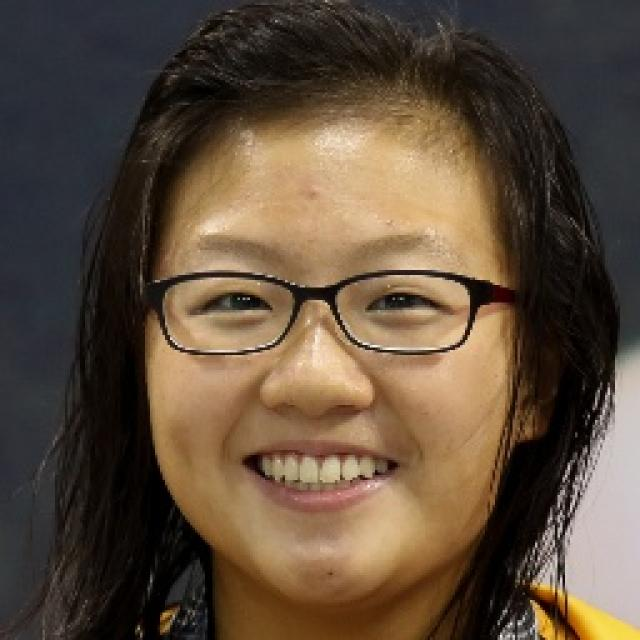earlobe: (510, 399, 552, 444)
eye: (365, 286, 449, 319), (193, 288, 278, 316)
nose: (256, 397, 372, 435)
